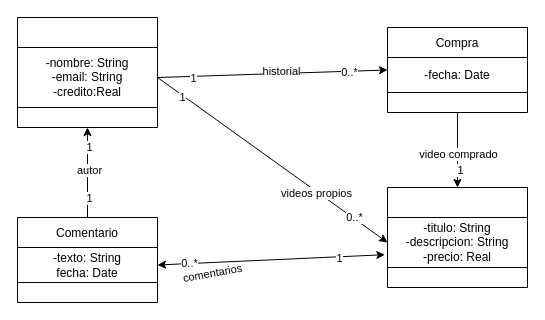
This 545x320 diagram has some shape labels left out. Each missing label, with the box of its shape:
Persona: (16, 16, 158, 128)
Video Musical: (386, 186, 528, 288)
